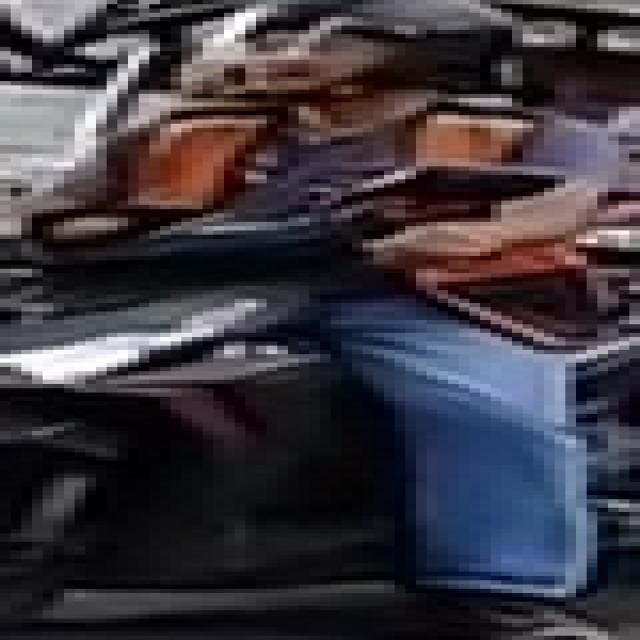door: (0, 0, 629, 635)
helmet: (170, 0, 522, 102)
